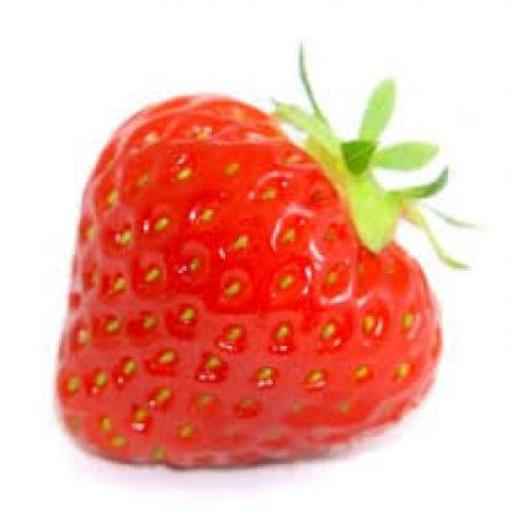biodegradable: (56, 38, 482, 469)
